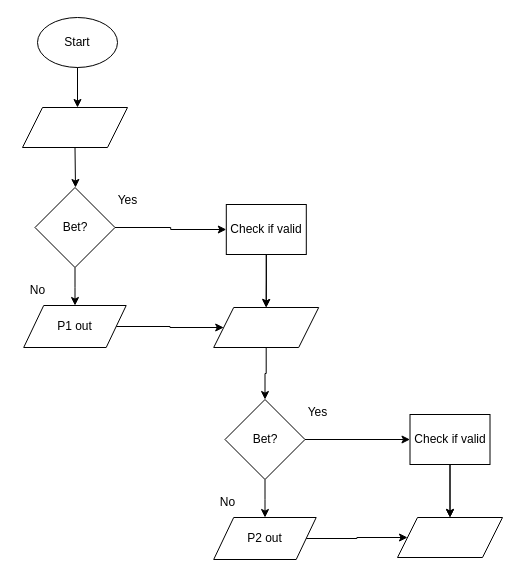
Some shapes in this 520 by 577 pixel diagram are drawn without their labels. The centre of each missing label's shape, as x and y in pixels:
"P1 Bet" goes at point 75,127.
"P2 Bet" goes at point 266,327.
"P3 Bet" goes at point 449,537.
